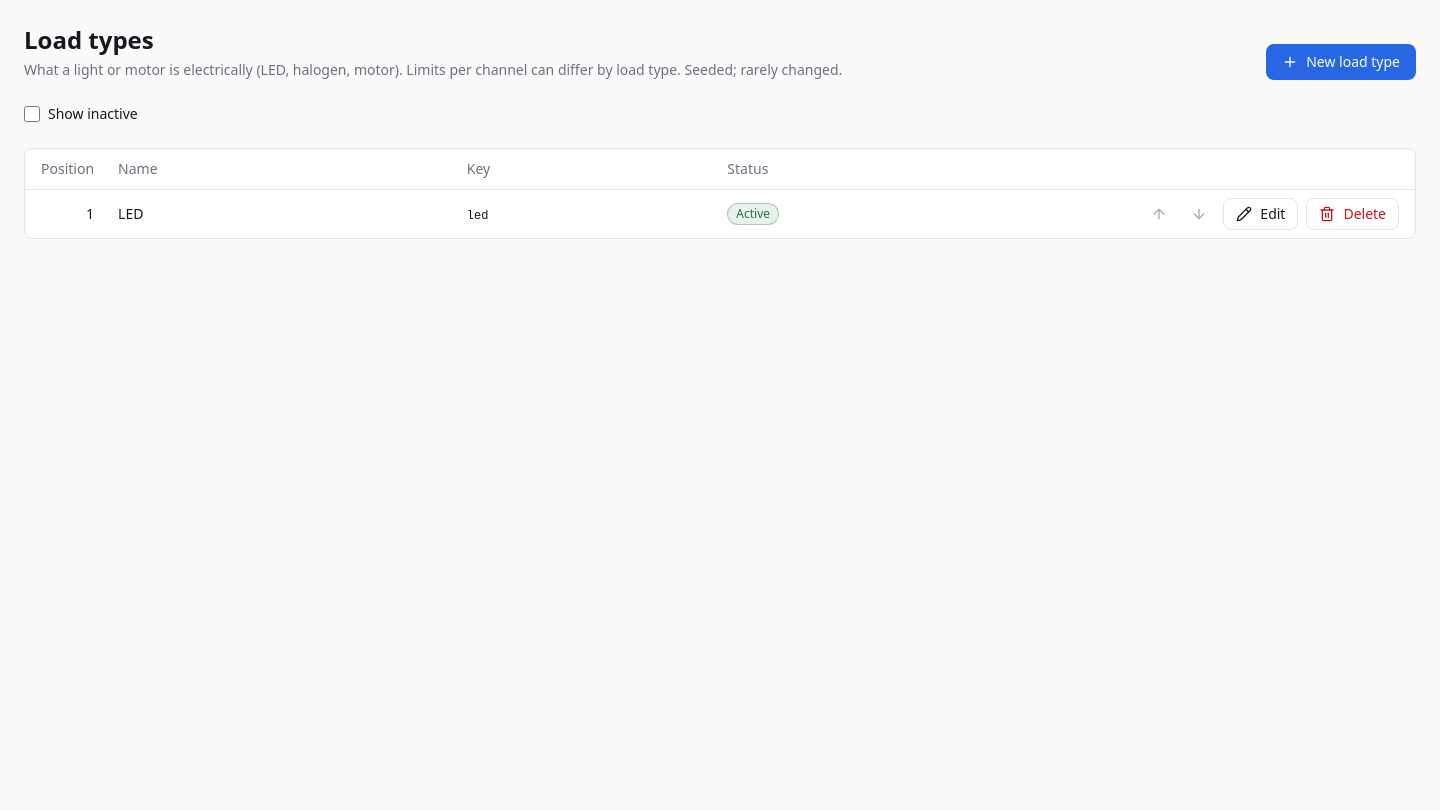
Test: LoadTypesPage › shows why a load type in use cannot be deleted
Click the button "Delete": x=1353, y=214 top-left (1306, 198), bottom-right (1399, 230)
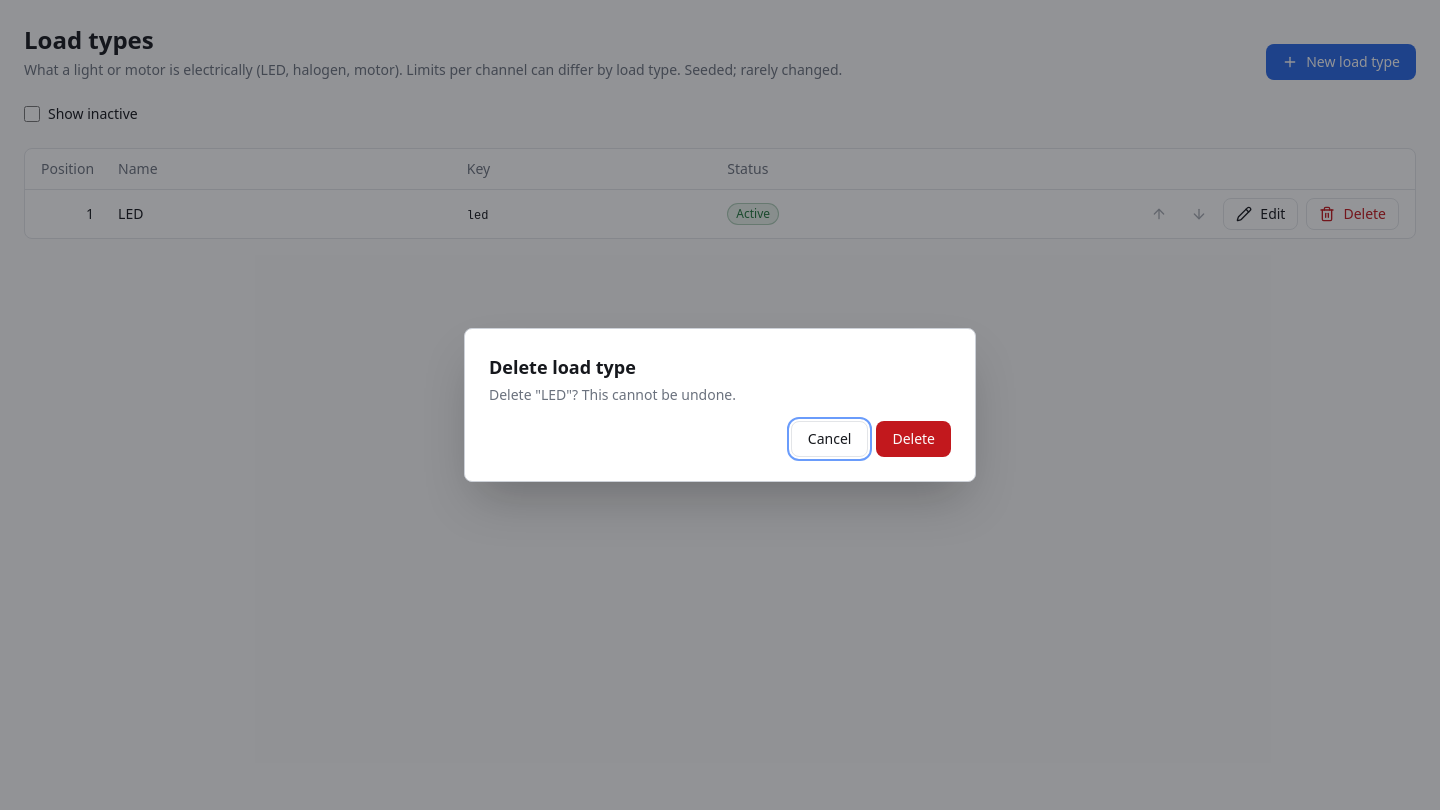
Click the button "Delete": x=914, y=439 top-left (876, 421), bottom-right (951, 457)
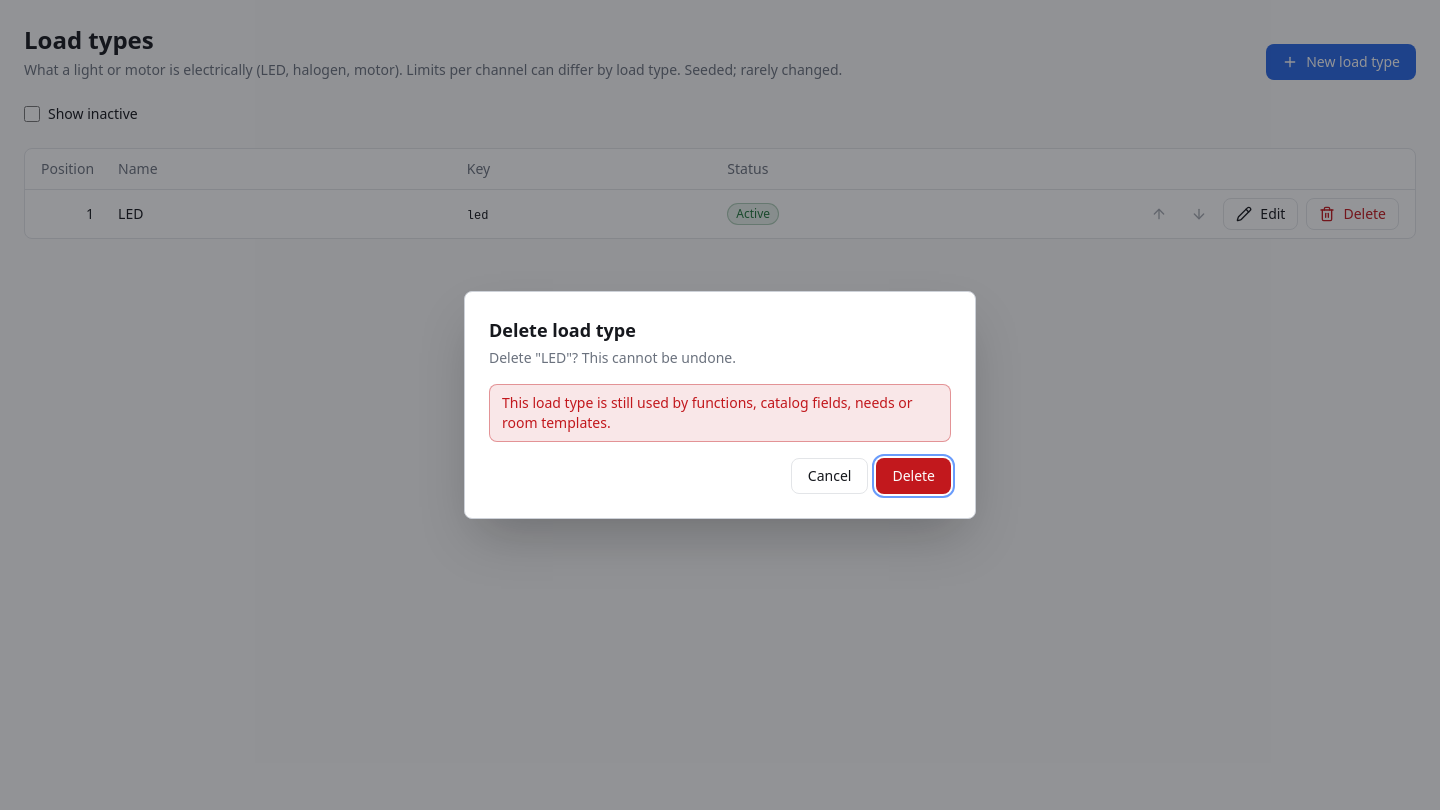
Result: the text "This load type is still used by functions, catalog fields, needs or room templates." is shown at top-left (502, 393), bottom-right (913, 432)
